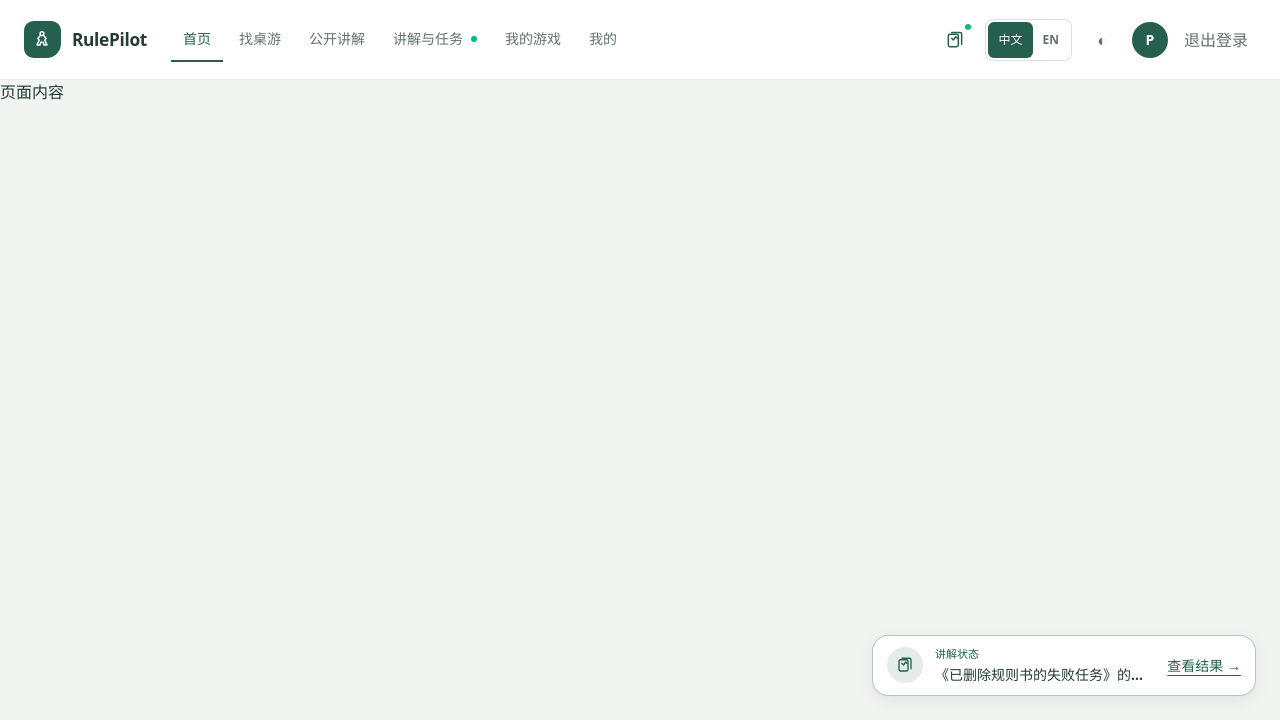
Scenario: AppShell › clears a terminal upload handoff even when its deleted document is absent from the recent list
Click the button with test id "background-work-trigger-desktop" at [956, 40], box top-left (934, 18), bottom-right (978, 62)
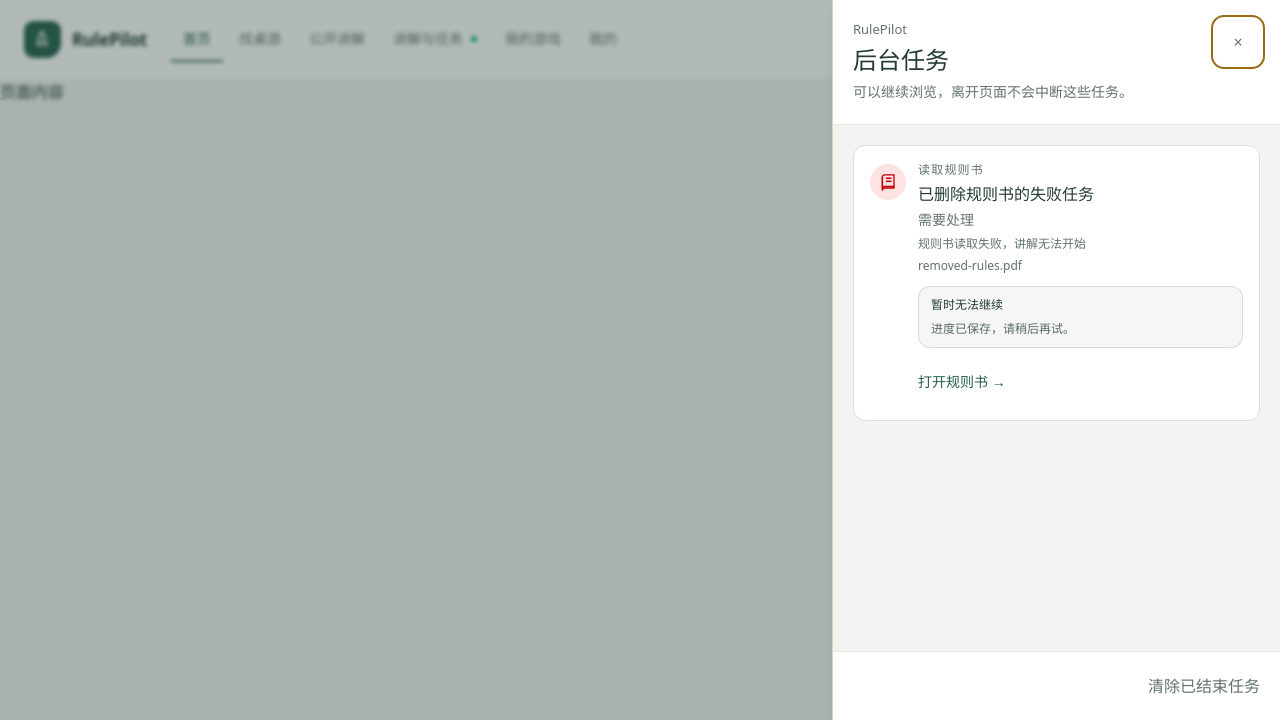
Expected: the text "已删除规则书的失败任务" is shown, top-left (918, 182), bottom-right (1094, 204)
Expected: the text "规则书读取失败" is shown, top-left (918, 234), bottom-right (1086, 252)
Click the button "清除已结束任务" at [1204, 686], box top-left (1148, 664), bottom-right (1260, 708)
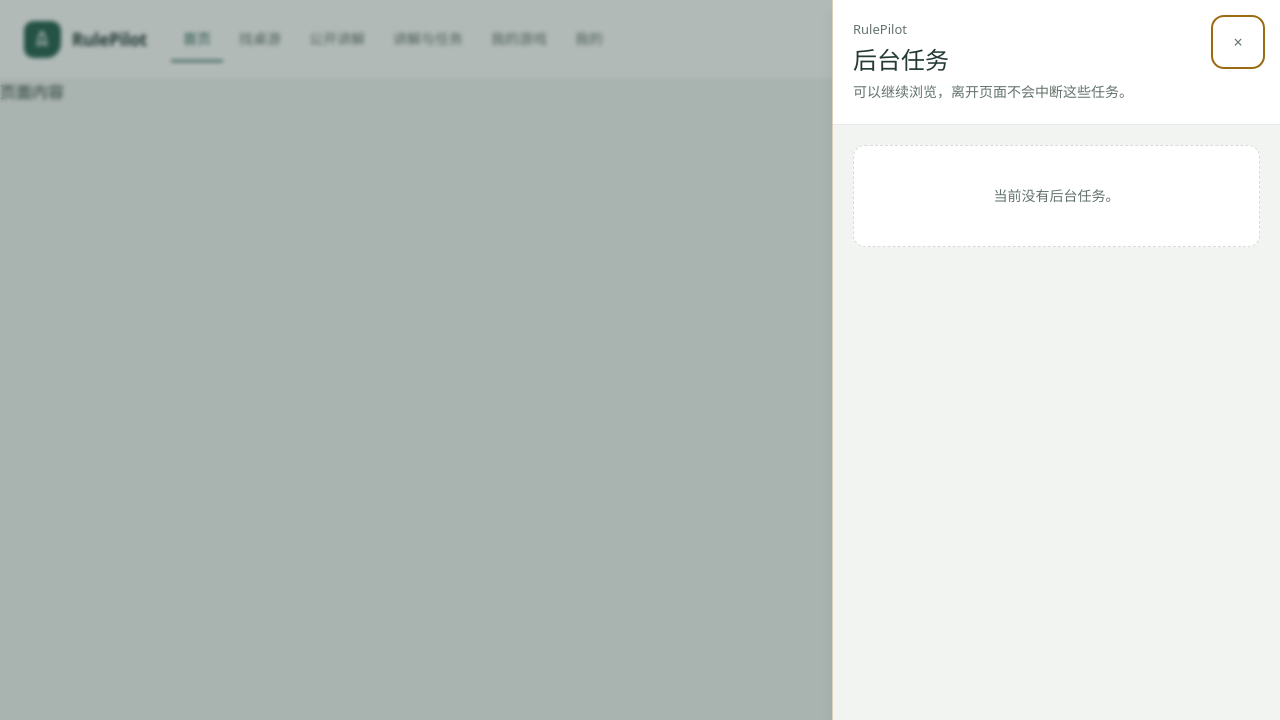
Expected: the text "已删除规则书的失败任务" is gone
